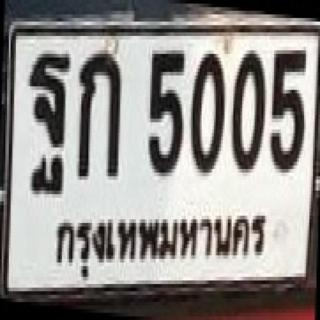A01: (73, 47, 124, 185)
A16: (19, 47, 74, 201)
N00: (186, 47, 229, 181), (229, 44, 267, 178)
N05: (143, 44, 189, 179), (270, 47, 310, 175)
P04: (53, 212, 268, 277)
